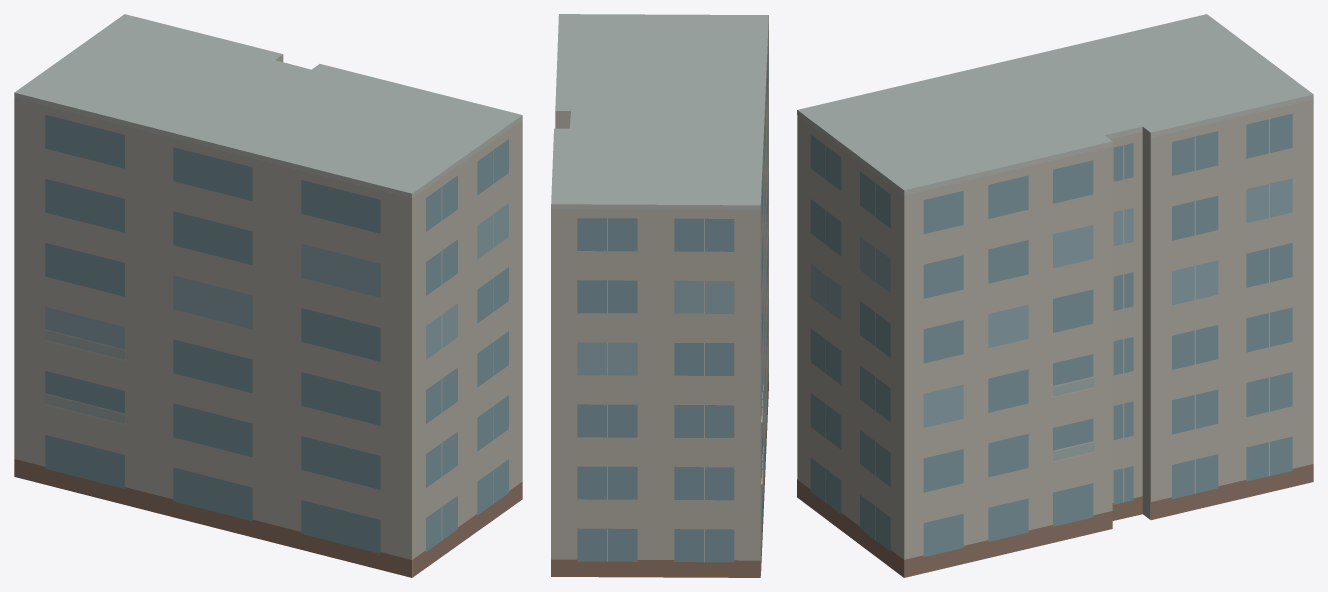
File: survey-upis-32747671.glb
3 renders of one model, left to right at view 1: azimuth 30°, elevation 25°; view 2: azimuth 150°, elevation 25°; view 3: azimuth 270°, elevation 25°, orthographic. The views are drawn at different scales.
Parts seen in each view (by area): view 1: survey-upis-32747671.tmp; view 2: survey-upis-32747671.tmp; view 3: survey-upis-32747671.tmp.
Part boxes in pixels (x1,y1,x2,y2): survey-upis-32747671.tmp: [14, 14, 522, 577]; survey-upis-32747671.tmp: [551, 14, 768, 577]; survey-upis-32747671.tmp: [797, 14, 1313, 577].
Size of the model in its own units: 17.87 by 18.3 by 22.11.
